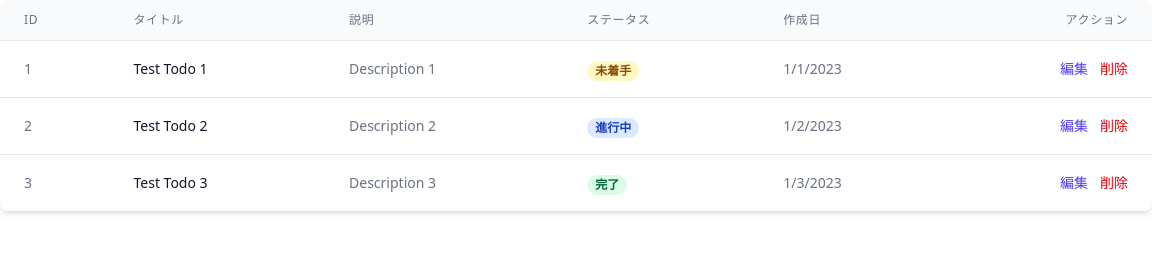
Test: AdminTodoList Component › should enter edit mode when edit button is clicked
Click the button "編集" in the row of "Test Todo 1" at (1074, 69), box [1060,59,1088,79]
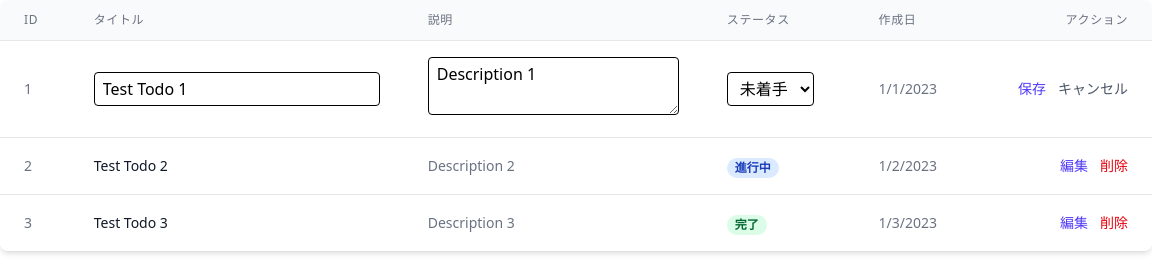
Expected: the field showing "Test Todo 1" is shown, [94,72,380,106]
Expected: the text box showing "Description 1" is shown, [428,57,679,115]
Expected: the dropdown is shown, [727,72,814,106]
